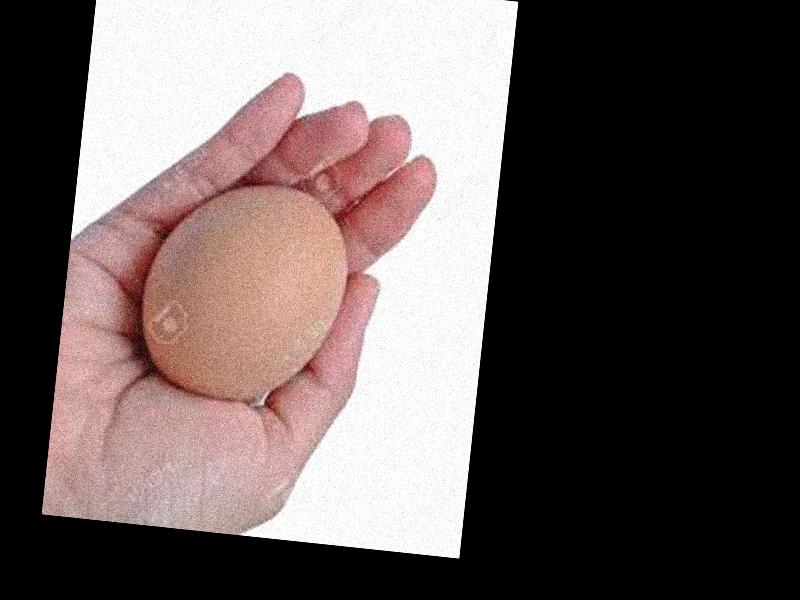Eggs: (135, 172, 355, 412)
